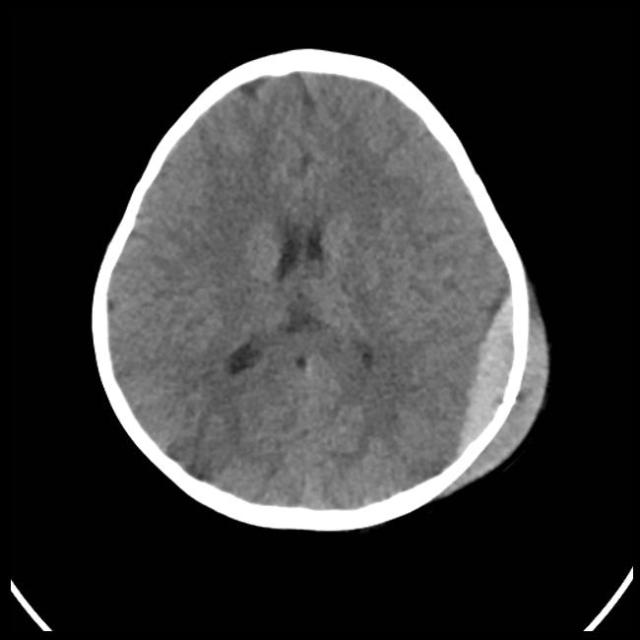lesion: (88, 49, 550, 530)
